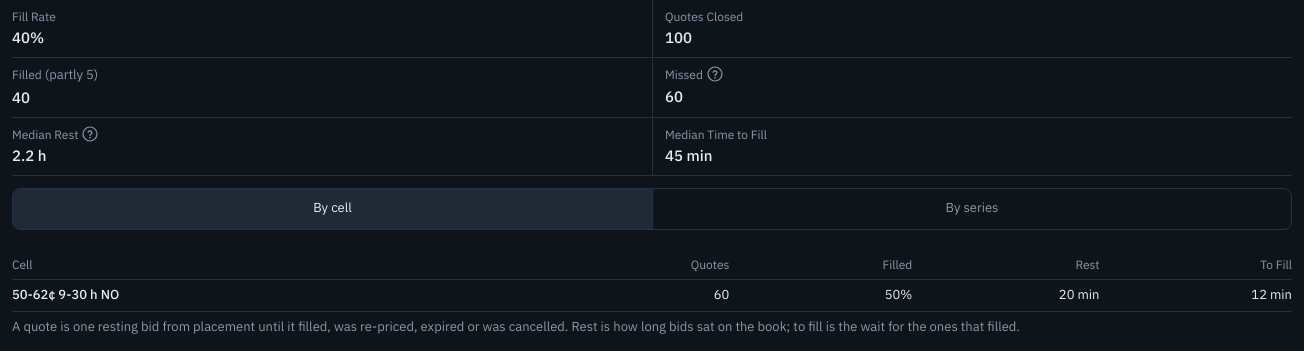
fill rate (item 4) › shows totals and switches between by-cell and by-series tables
This screenshot has width=1304, height=351.
Expected: the text "40%" is shown, [12,28,44,47]
Expected: the text "2.2 h" is shown, [12,146,47,165]
Step 1. Click the button "By series" → (972, 209), box [652,189,1291,229]
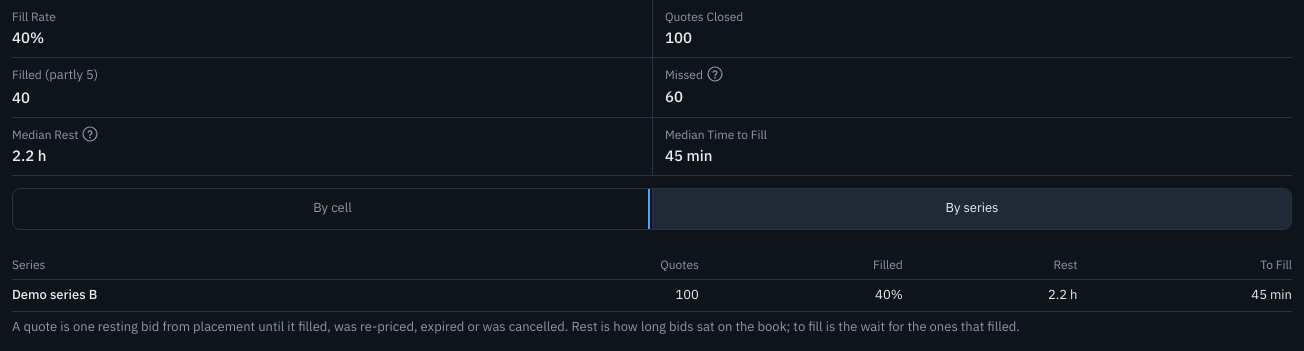
Expected: the table named "Fill rate by series" shows "Demo series B", [12,286,97,303]
